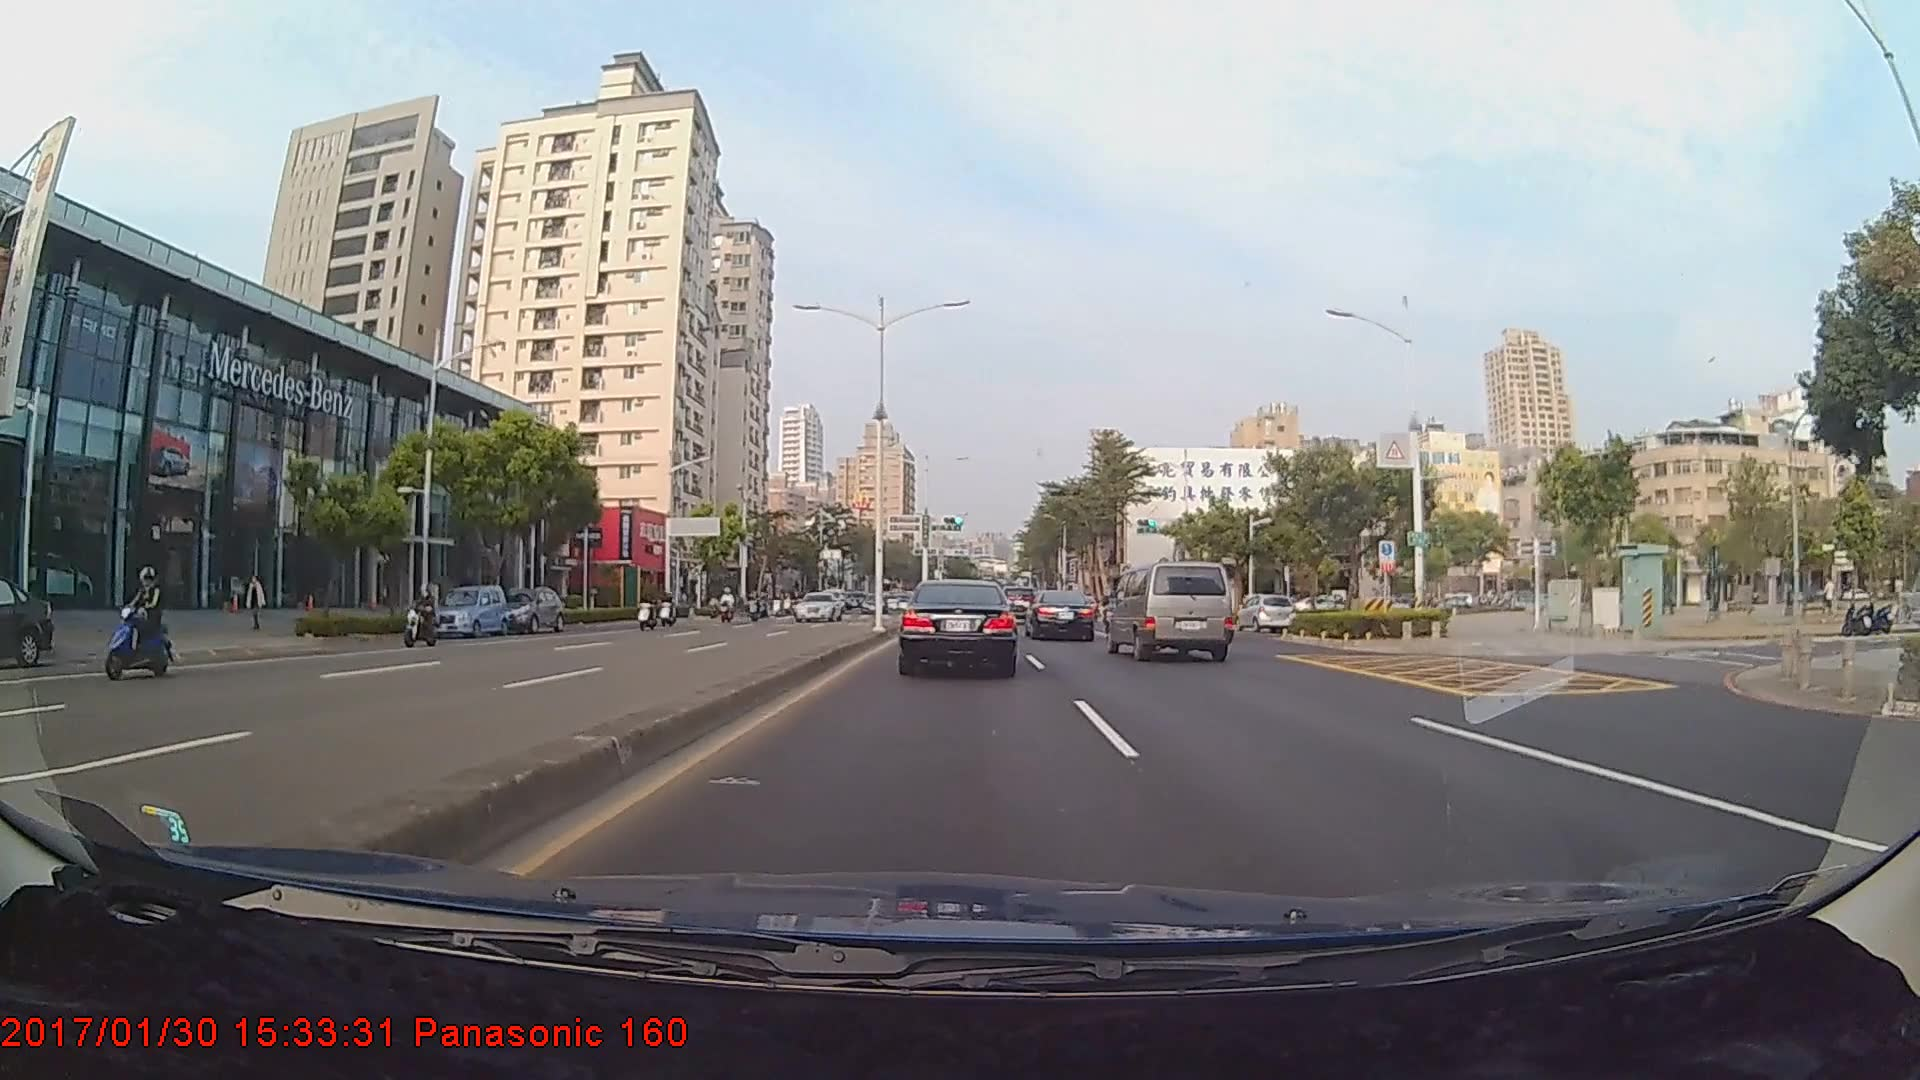pedestrian: (244, 571, 267, 634)
rider: (97, 567, 189, 683), (395, 581, 445, 656)
vehicle: (1108, 559, 1235, 662), (897, 577, 1019, 677), (0, 578, 62, 667), (428, 580, 506, 634), (1024, 588, 1097, 642), (490, 586, 567, 636), (1233, 593, 1296, 633), (793, 591, 844, 620)
